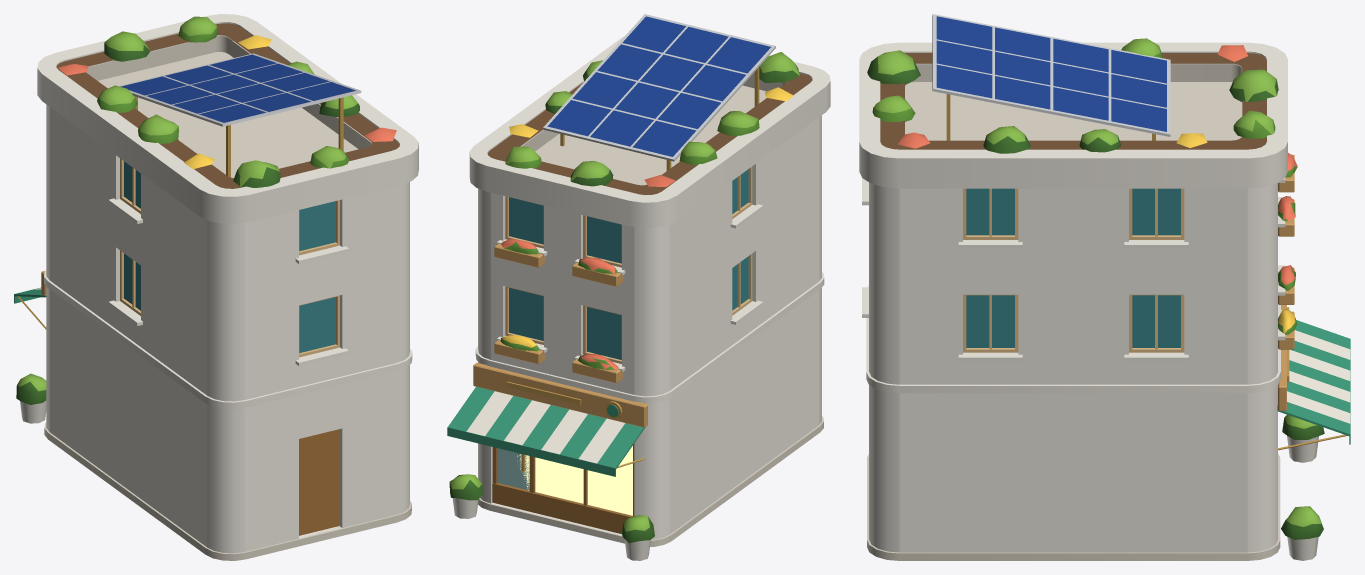
The model's file is shop_a.glb.
3 renders of one model, left to right at view 1: azimuth 30°, elevation 25°; view 2: azimuth 150°, elevation 25°; view 3: azimuth 270°, elevation 25°, orthographic. The views are drawn at different scales.
Visible parts, largest first — view 1: shop, plants; view 2: shop, plants; view 3: shop, plants.
Part boxes in pixels (<box>): shop: <box>14,14,418,560</box>; plants: <box>16,16,396,423</box>; shop: <box>447,14,830,546</box>; plants: <box>449,52,799,560</box>; shop: <box>859,14,1350,560</box>; plants: <box>867,38,1324,560</box>.
Size of the model in its own units: 4.96 by 9.08 by 8.89.
